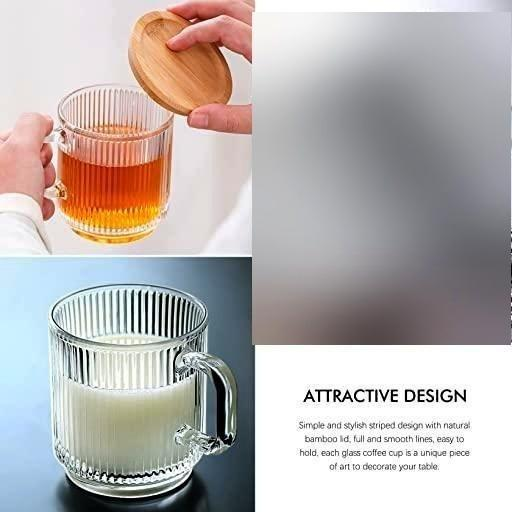glass-mug: (41, 278, 243, 511), (34, 80, 183, 252)
